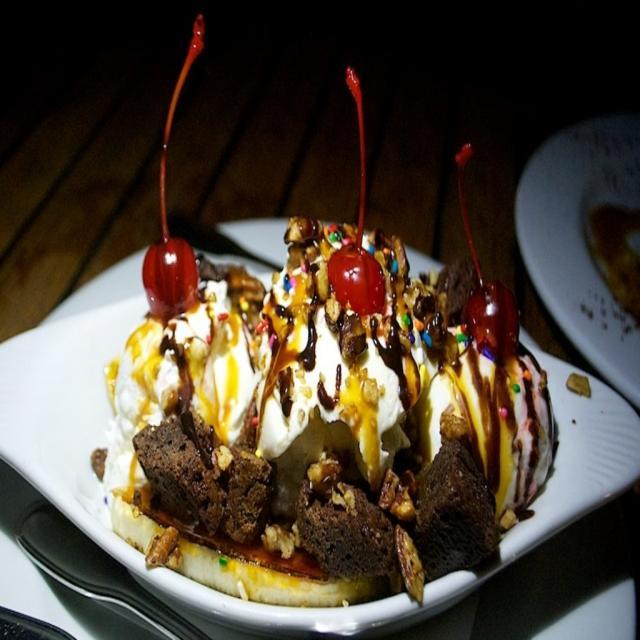Ice cream: (106, 65, 563, 599)
